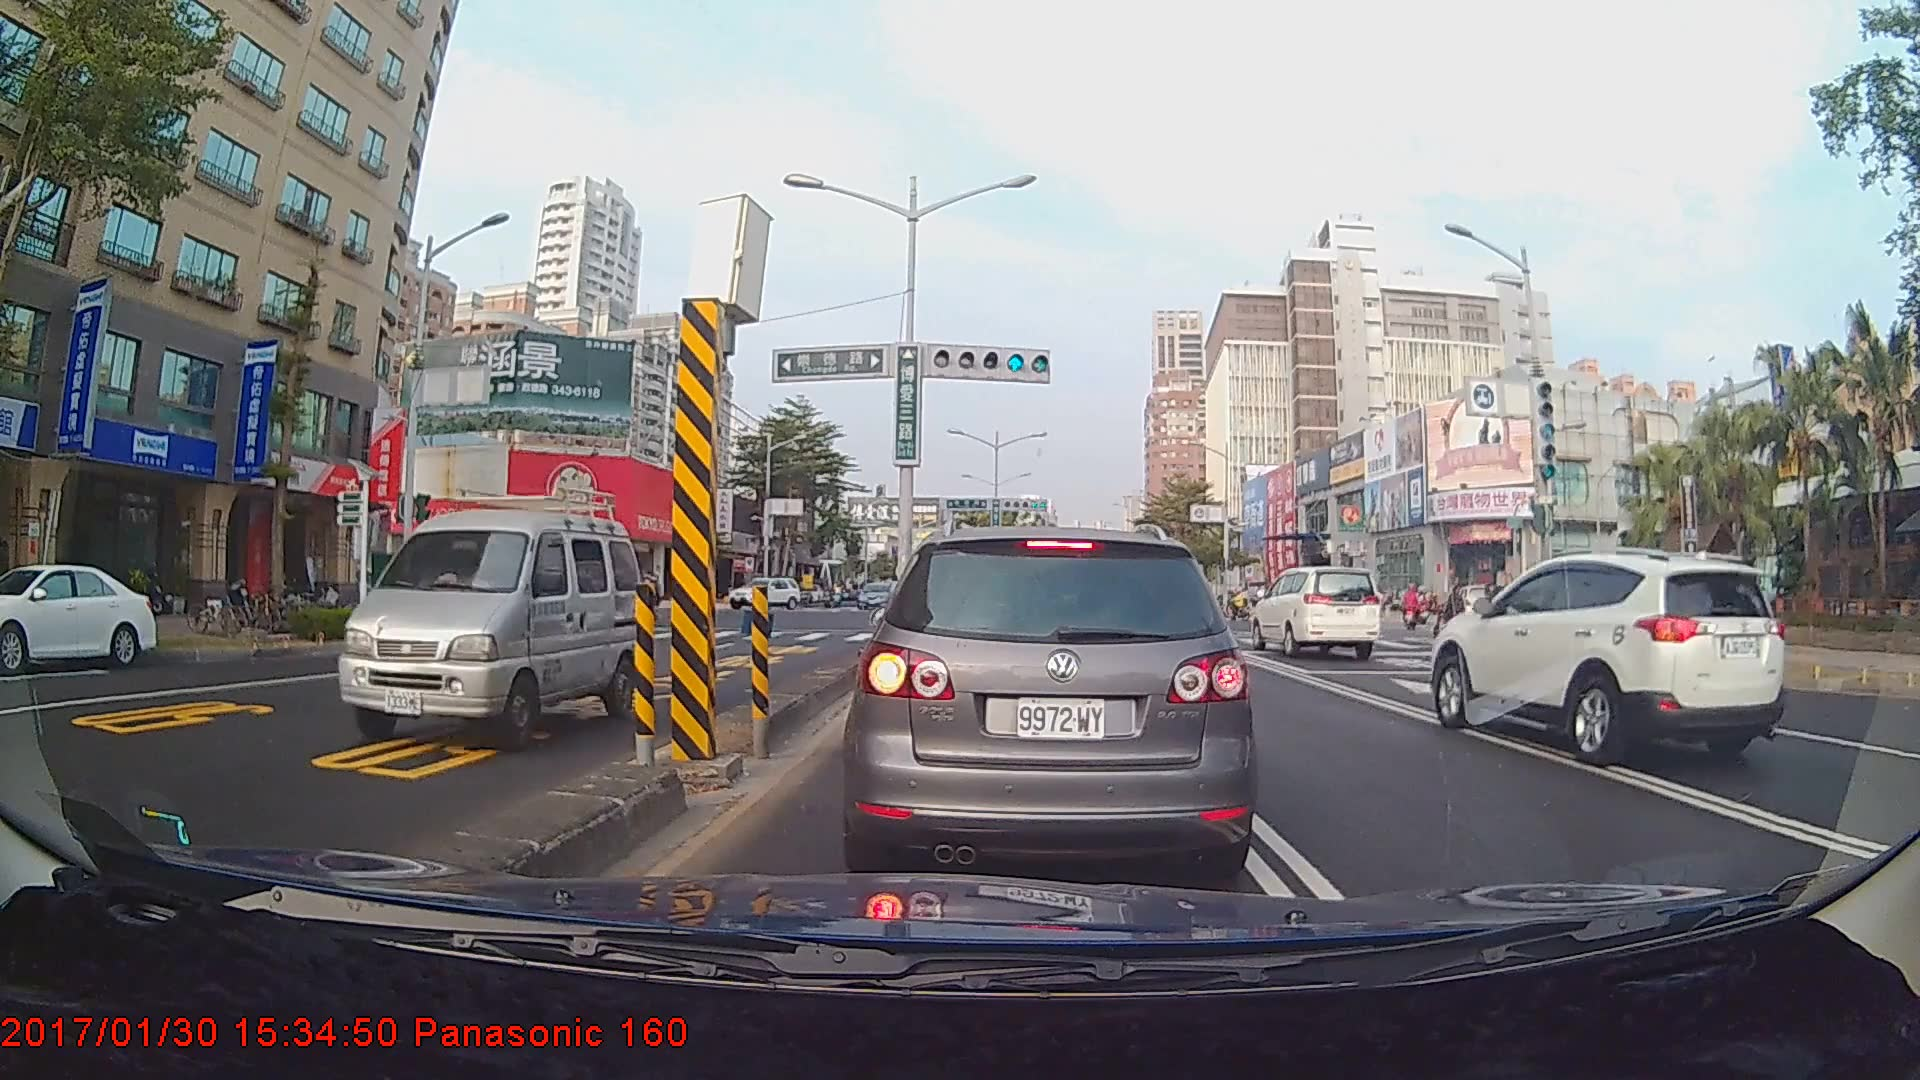rider: (1396, 580, 1421, 638)
vehicle: (854, 521, 1252, 880), (337, 484, 641, 748), (1427, 545, 1787, 762), (0, 561, 157, 671), (1248, 564, 1381, 660), (856, 580, 896, 611)
